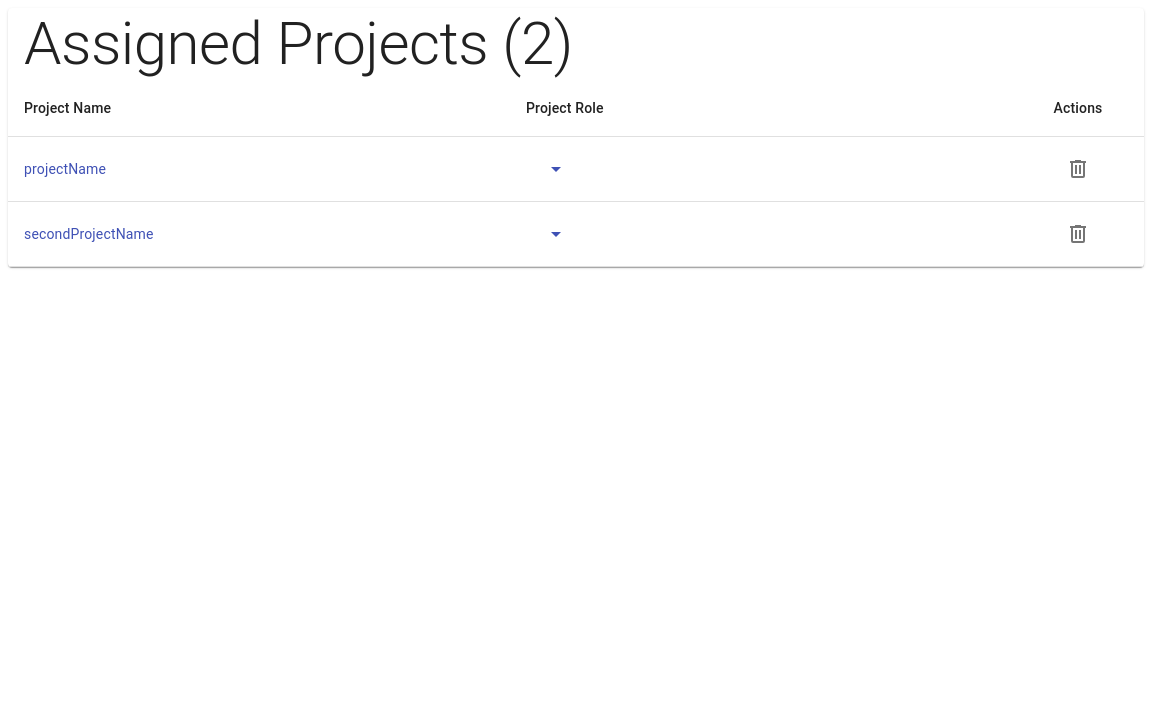
Test: UsersDetailProjects › Are you sure? Dialog › deletes User from project if the user clicks on `Remove User`
Check: the number of headings "Assigned Projects (2)" is 1, box x1=24 y1=8 x2=573 y2=80
Check: the text "projectName" is shown once, box x1=24 y1=161 x2=106 y2=177
Step 1. Click the 1st button with test id "remove-project-participant-button" → (1078, 169), box x1=1054 y1=145 x2=1102 y2=193
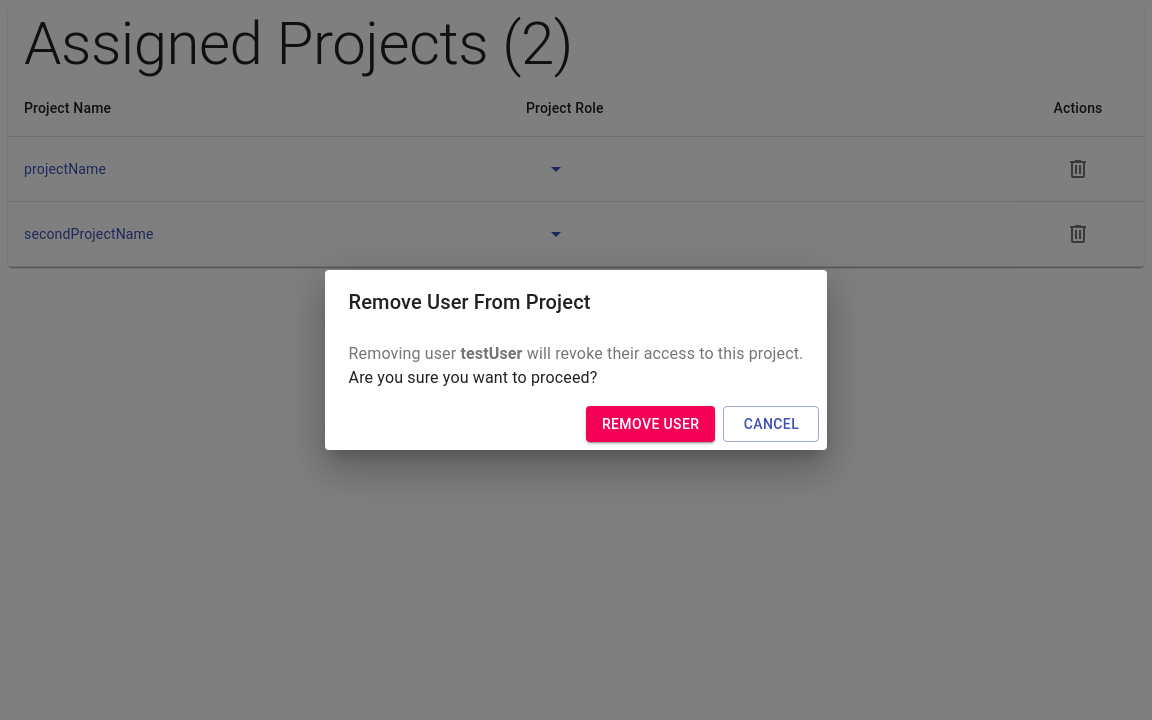
Check: the number of headings "Remove User From Project" is 1, box x1=349 y1=290 x2=591 y2=314
Step 2. Click the button "Remove User" → (651, 424), box x1=586 y1=406 x2=715 y2=442
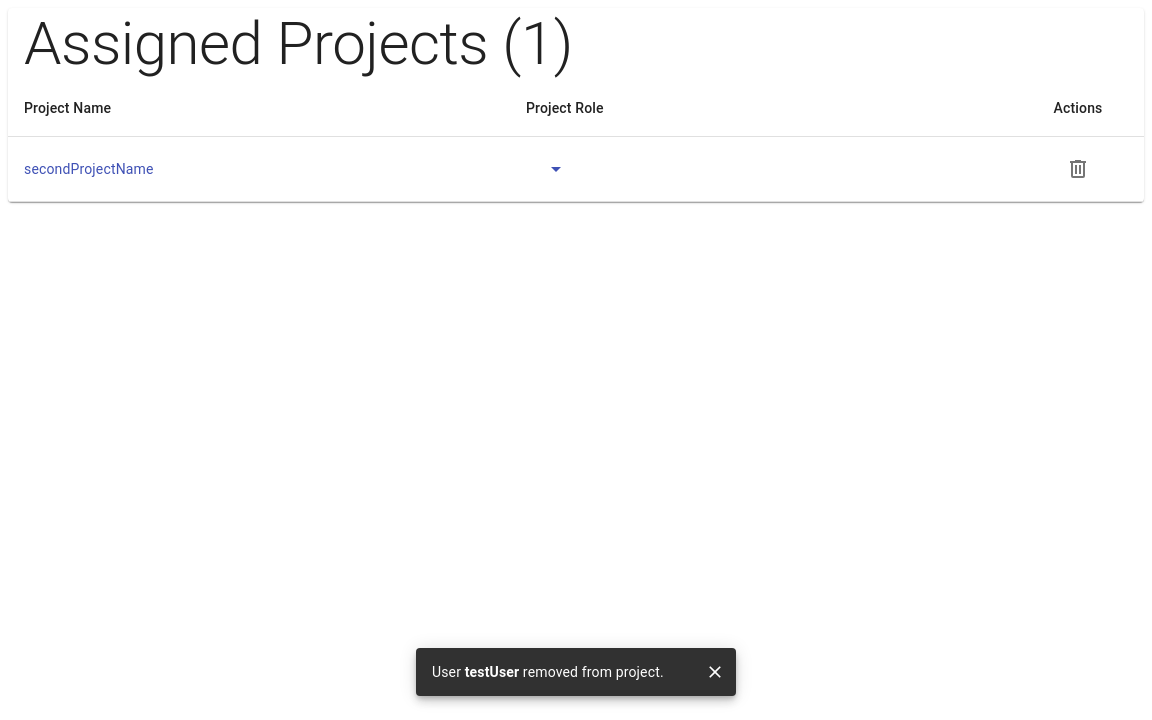
Check: the number of headings "Assigned Projects (1)" is 1, box x1=24 y1=8 x2=573 y2=80
Check: the text "secondProjectName" is shown once, box x1=24 y1=161 x2=154 y2=177
